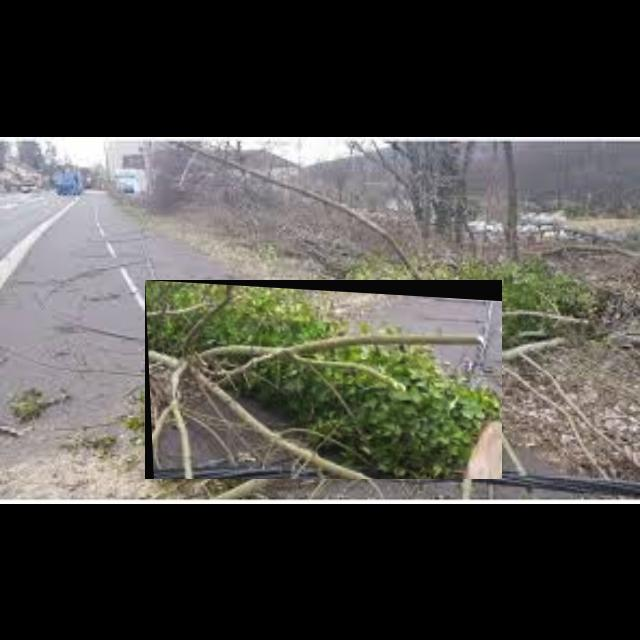Fallen Tree: (145, 280, 503, 480)
